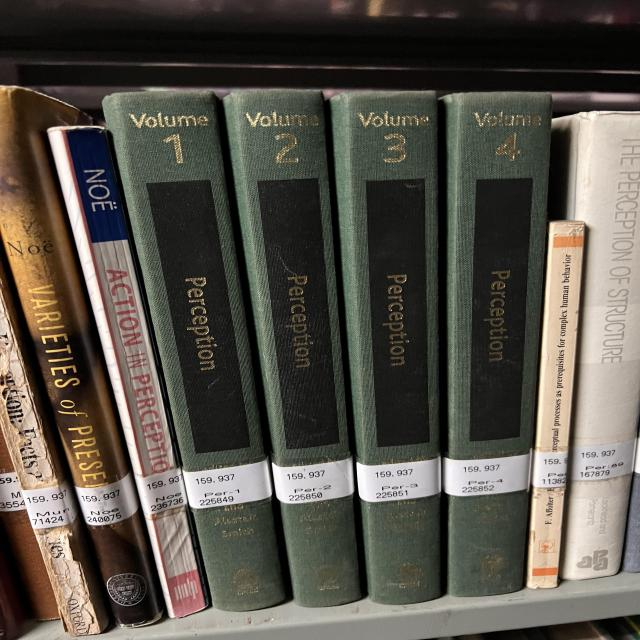Book: (103, 91, 285, 611), (0, 86, 163, 626), (48, 126, 207, 616), (223, 90, 362, 606), (330, 91, 442, 605), (443, 92, 552, 596), (548, 111, 640, 580), (0, 276, 108, 635), (527, 220, 585, 589), (0, 430, 60, 620)
Label: (183, 460, 272, 509), (357, 456, 442, 502), (443, 454, 532, 496), (272, 458, 353, 504), (75, 474, 138, 525), (570, 440, 635, 481), (22, 481, 77, 529), (135, 469, 187, 514), (532, 451, 568, 488), (0, 472, 25, 511)
